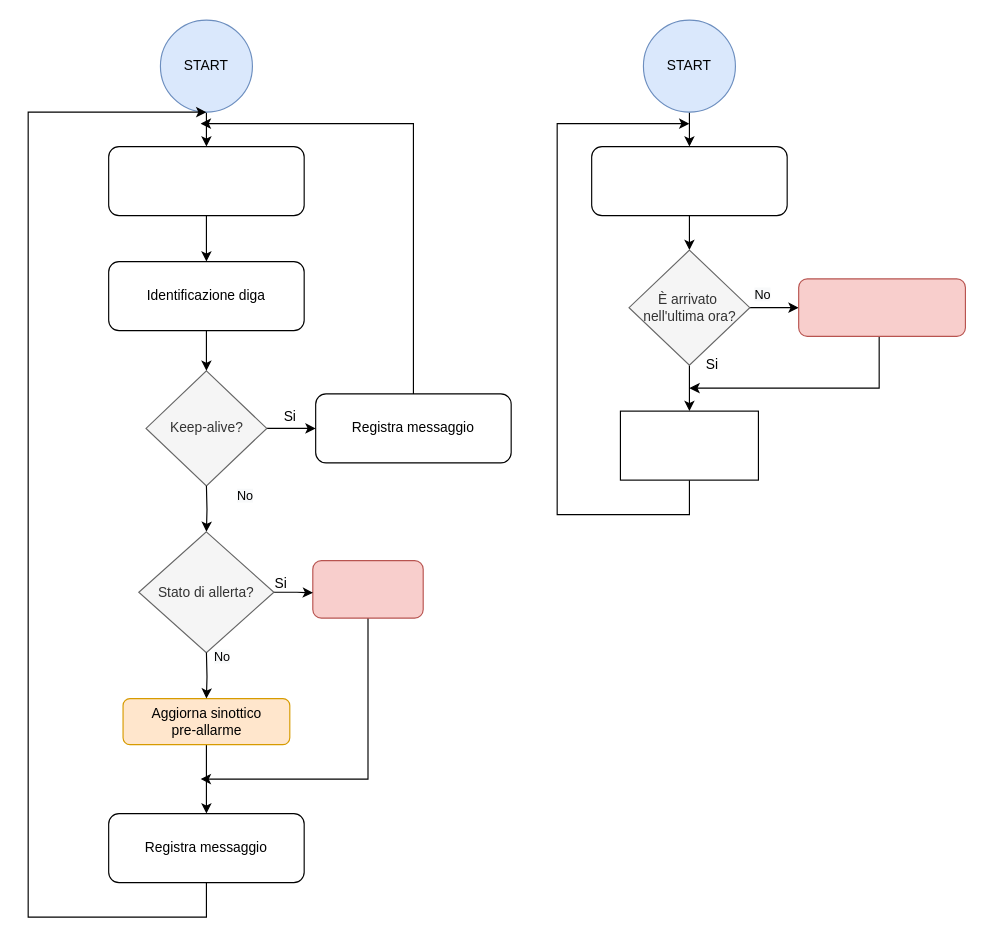
This 986x946 diagram has some shape labels left out. Here are the shapes that lost their labels. From the top down, the centre of each, then its label:
At point (206, 180): "Ricezione messaggio".
At point (689, 180): "Estraggo l'ultimo messaggio ricevuto di una determinata diga nel database".
At point (881, 307): "Aggiorna sinottico".
At point (688, 445): "Aspetto 1 ora".
At point (367, 588): "Aggiorna sinottico allarme".
